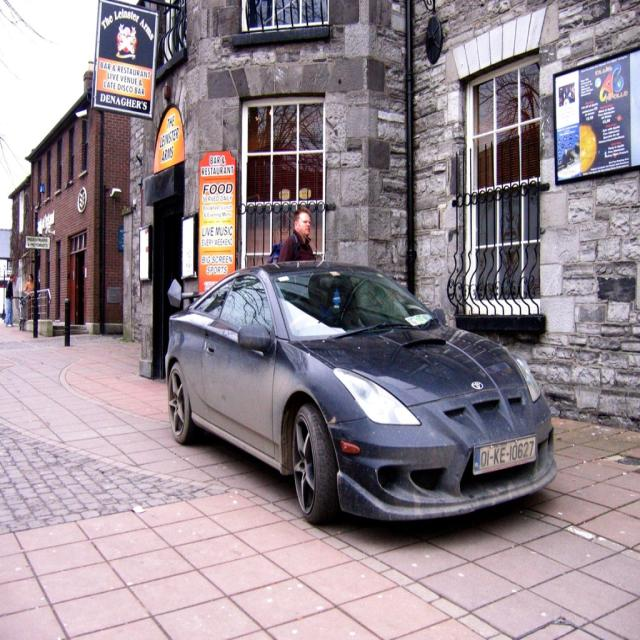car: (151, 251, 558, 530)
